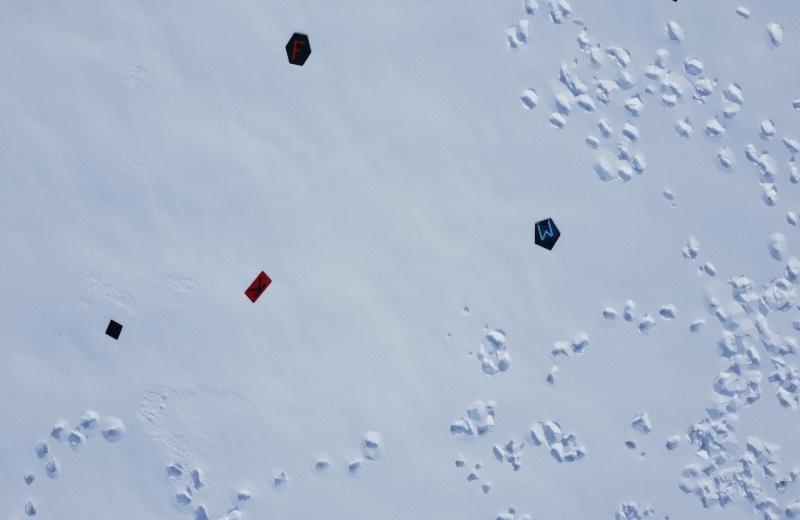Hexagon: (278, 28, 318, 76)
Pentagon: (529, 213, 564, 256)
Rectangle: (244, 263, 278, 305)
Square: (99, 319, 125, 353)
